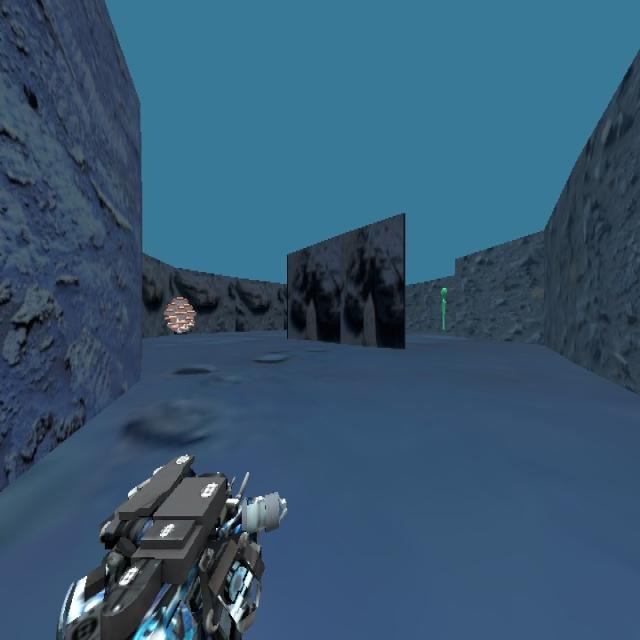Alien: (439, 285, 447, 331)
Mushroom: (162, 294, 196, 334)
